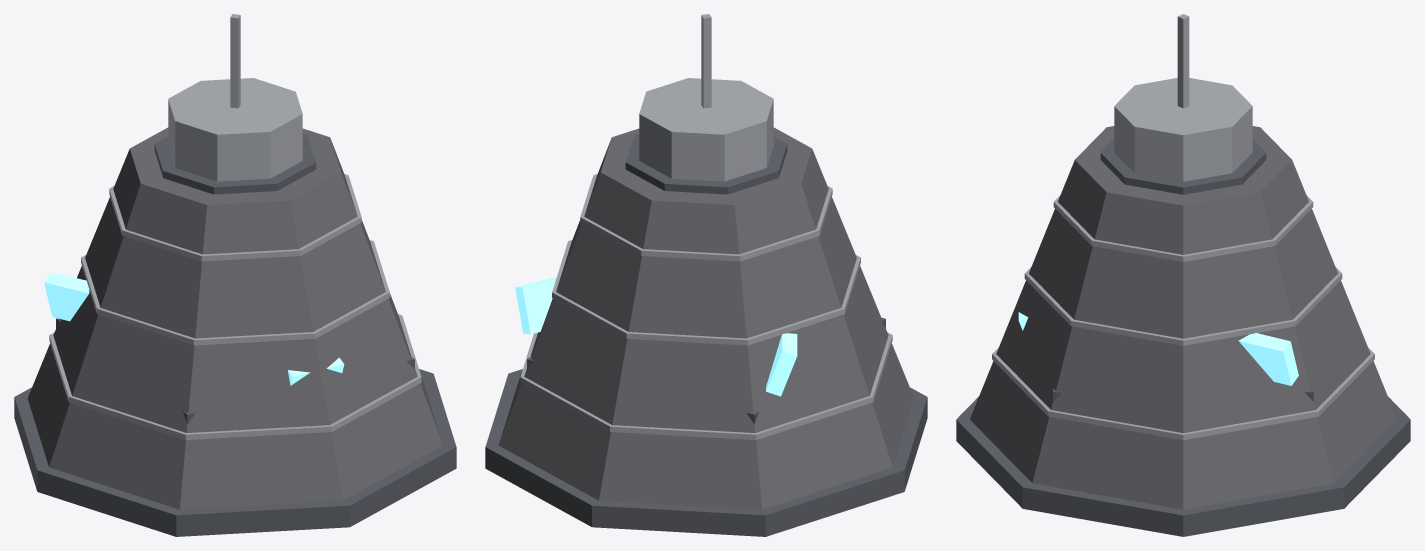
The model's file is capsule_armored.glb.
The picture shows the model from 3 angles, left to right: view 1: azimuth 30°, elevation 25°; view 2: azimuth 150°, elevation 25°; view 3: azimuth 270°, elevation 25°; orthographic projection.
Parts seen in each view (by area): view 1: capsule_armored; view 2: capsule_armored; view 3: capsule_armored.
Boxes of the visible parts, x1,y1,x2,y2 form: capsule_armored: (14, 14, 456, 536); capsule_armored: (485, 14, 927, 536); capsule_armored: (956, 14, 1410, 536).
Bounding box in the file's own units: 2.3 × 2.37 × 2.3.
